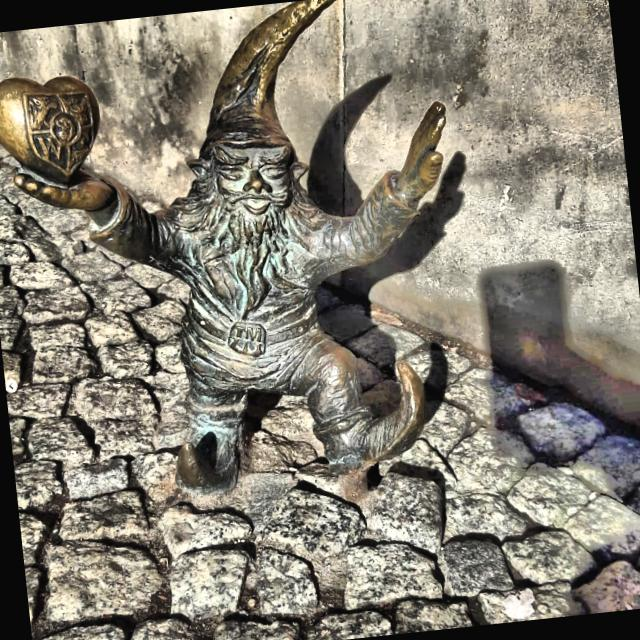WrocLovek: (0, 0, 486, 506)
